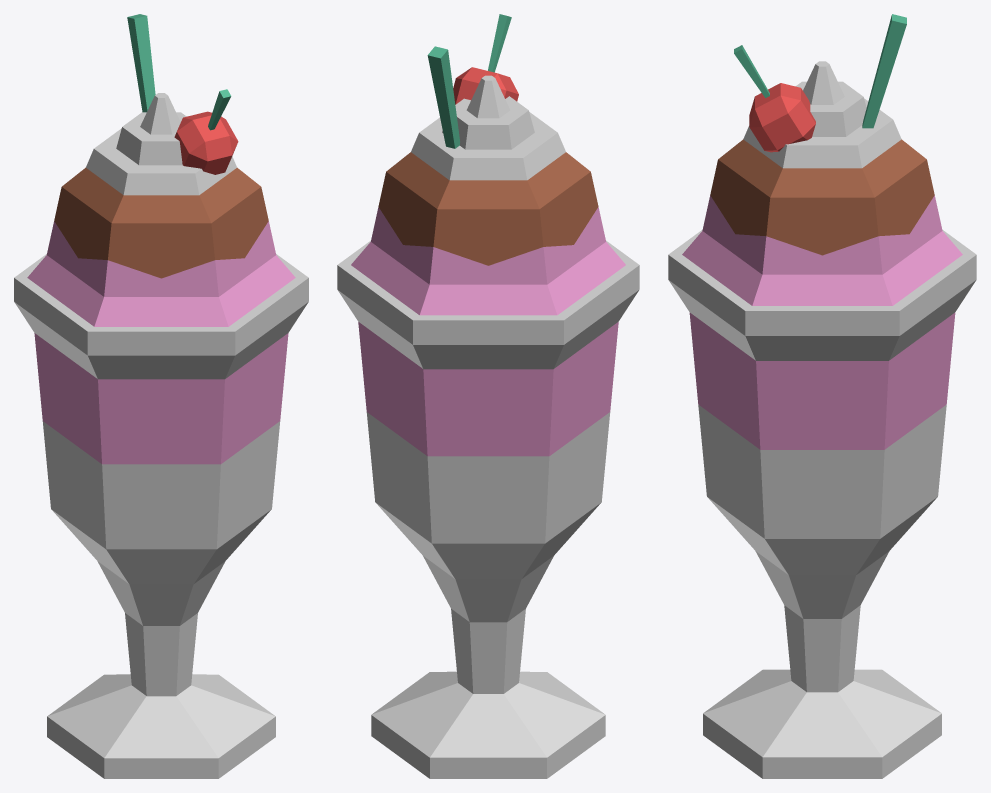
File: sundae.dae
3 views of the same model, side by side, from view 1: azimuth 30°, elevation 25°; view 2: azimuth 150°, elevation 25°; view 3: azimuth 270°, elevation 25° (orthographic). The views are drawn at different scales.
Visible parts, largest first — view 1: sundae, cherry, straw; view 2: sundae, straw, cherry; view 3: sundae, cherry, straw.
Part boxes in pixels (left/top/right/bottom): sundae: left=14, top=93, right=308, bottom=778; cherry: left=174, top=89, right=238, bottom=174; straw: left=127, top=14, right=155, bottom=112; sundae: left=337, top=75, right=639, bottom=778; straw: left=427, top=46, right=459, bottom=148; cherry: left=453, top=14, right=518, bottom=104; sundae: left=668, top=61, right=976, bottom=778; cherry: left=734, top=45, right=815, bottom=152; straw: left=862, top=14, right=906, bottom=128.
Bounding box in the file's own units: 0.2232 × 0.6679 × 0.2577.
